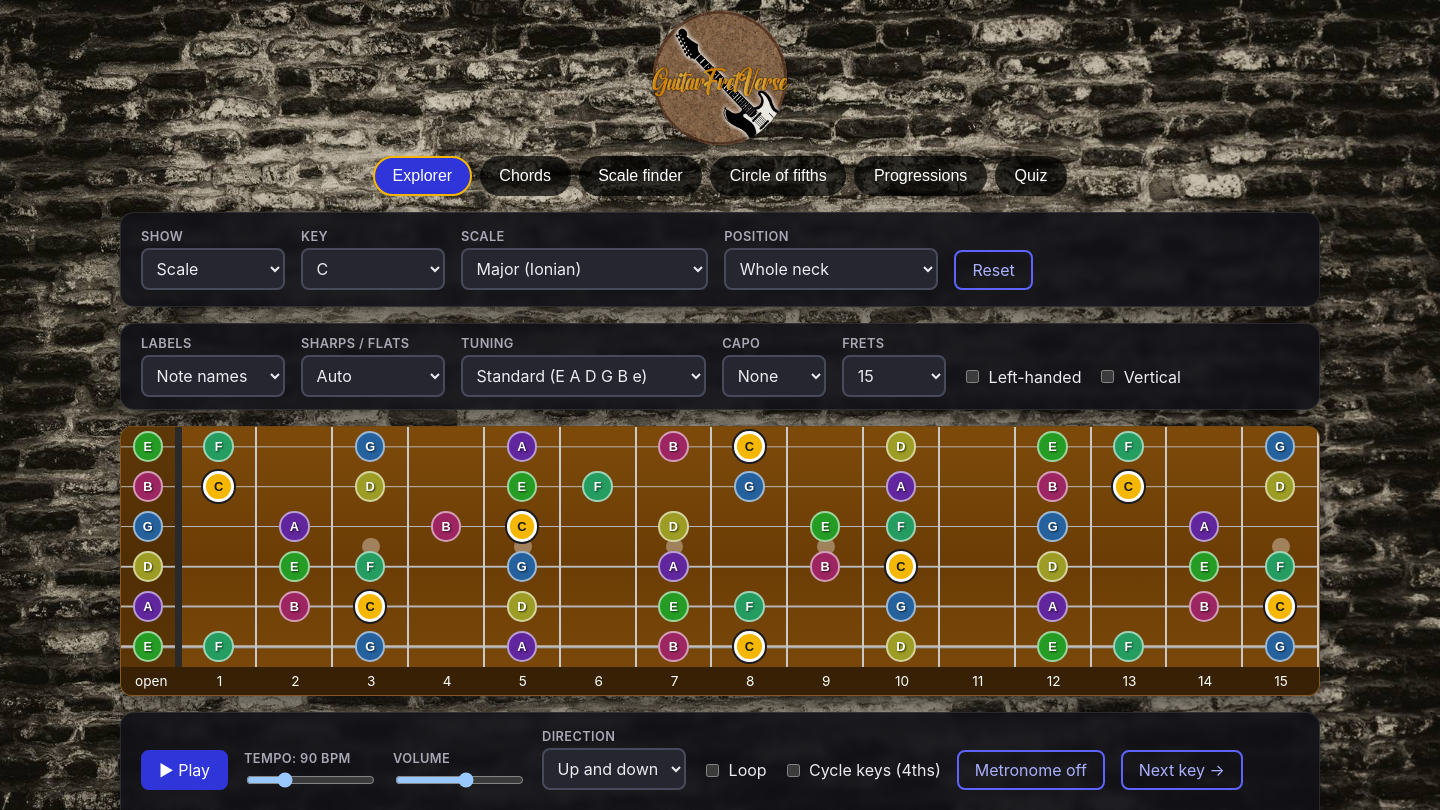
Test: can build a custom progression
Click the tab "Progressions": (921, 176) [854,156,987,196]
(page scrolled)
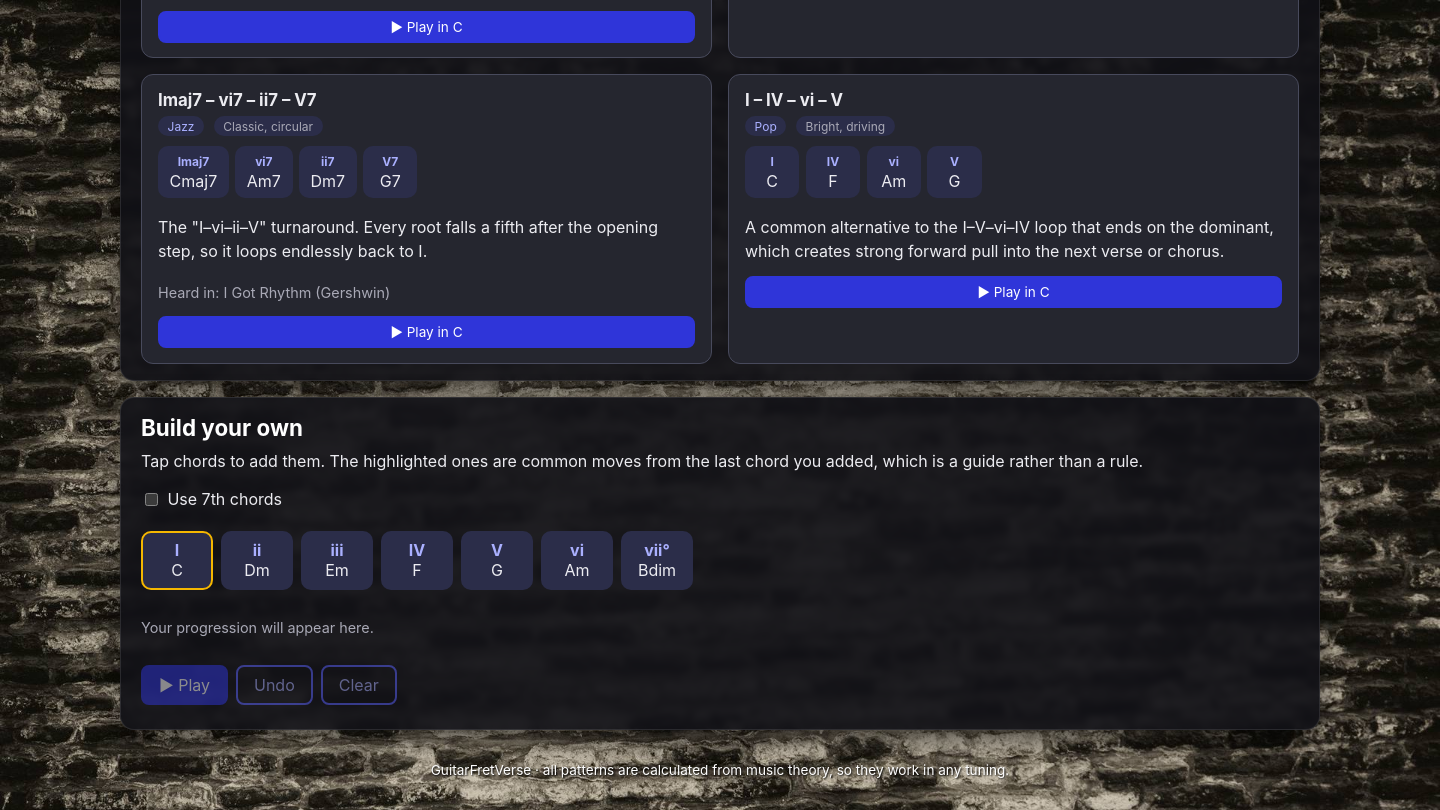
Click the button "I C" below "Use 7th chords": (177, 560) [141,531,213,590]
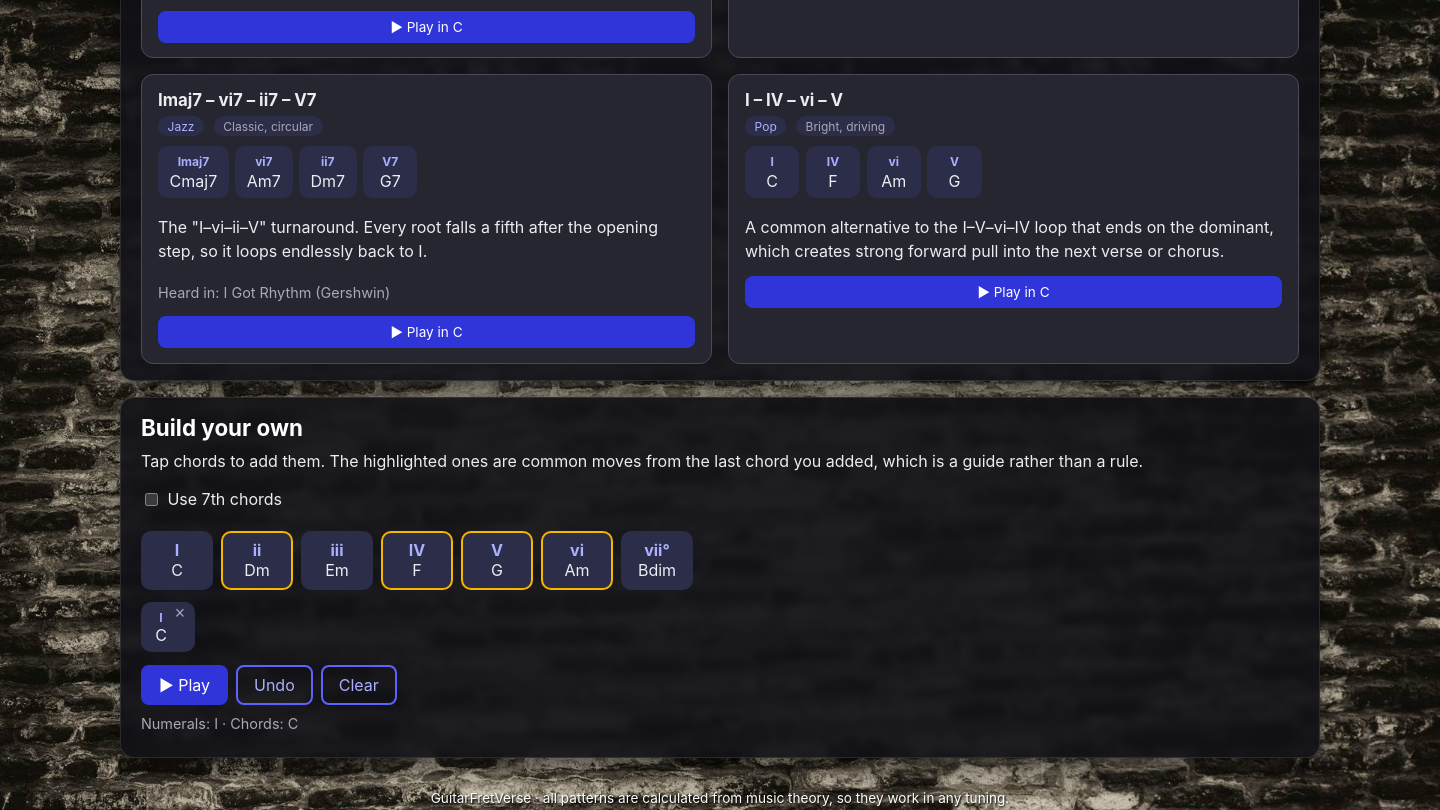
Check: the button named "Remove C" is shown, box [169,604,191,624]
